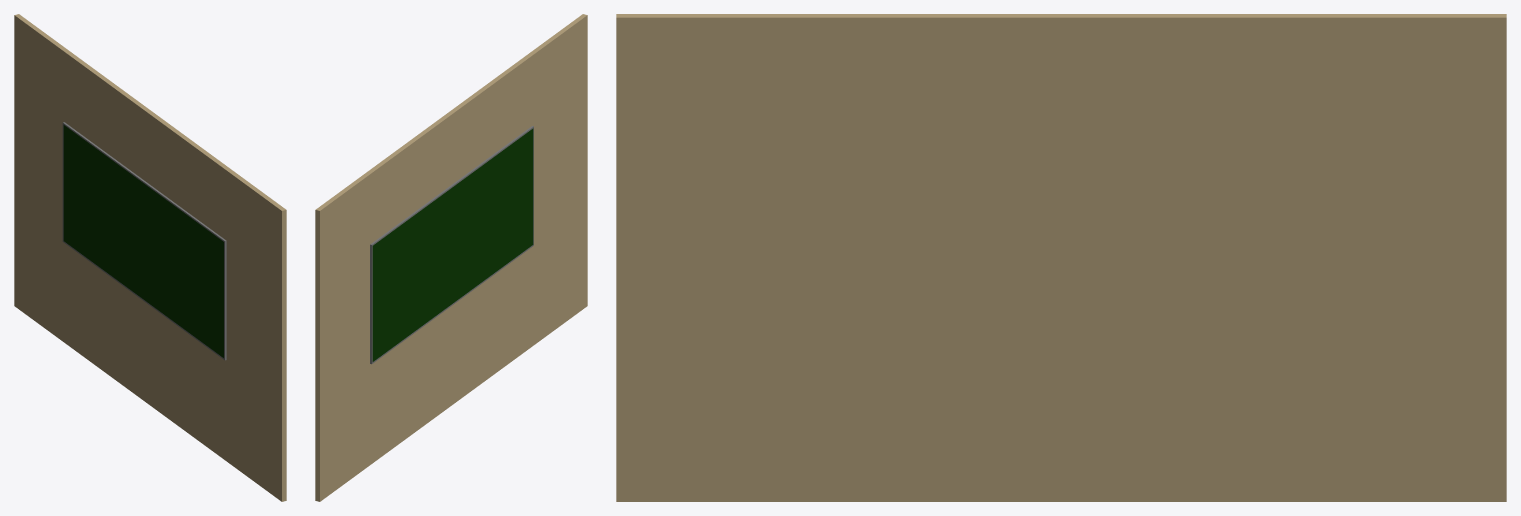
3 renders of one model, left to right at view 1: azimuth 30°, elevation 25°; view 2: azimuth 150°, elevation 25°; view 3: azimuth 270°, elevation 25°, orthographic. The views are drawn at different scales.
Parts seen in each view (by area): view 1: 墻壁, 黑板, 黑板邊; view 2: 墻壁, 黑板, 黑板邊; view 3: 墻壁.
Part boxes in pixels (x1=…): 墻壁: x1=14, y1=14, x2=286, y2=501; 黑板: x1=63, y1=125, x2=223, y2=357; 黑板邊: x1=62, y1=122, x2=226, y2=360; 墻壁: x1=315, y1=14, x2=587, y2=501; 黑板: x1=372, y1=128, x2=533, y2=361; 黑板邊: x1=370, y1=126, x2=533, y2=364; 墻壁: x1=616, y1=14, x2=1506, y2=501.
Size of the model in its own units: 6.92 by 300 by 500.
